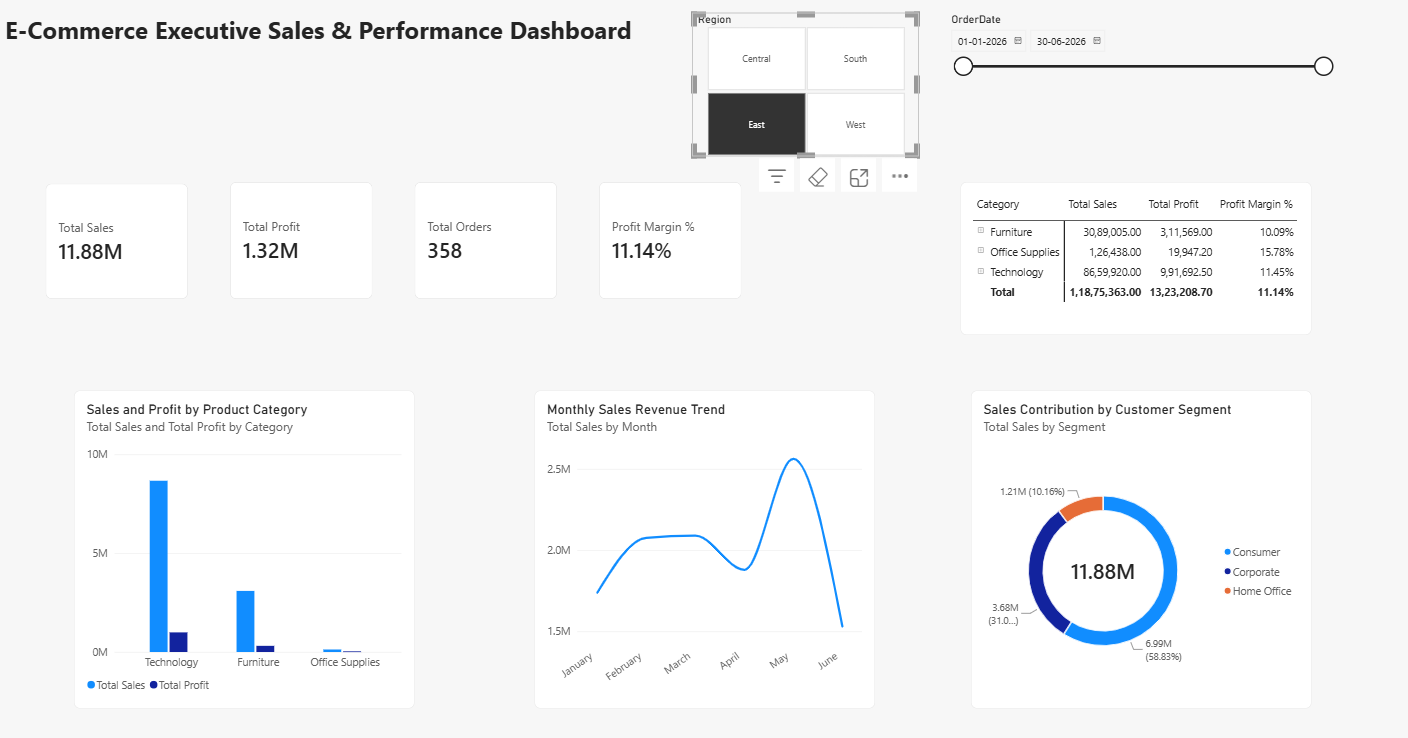

The dashboard page shown, as its layout file describes it:
{"tool":"powerbi","page":{"name":"Page 1","canvas":[1920,1080],"ordinal":0},"visuals":[{"type":"textbox","box":[12,22,862,74],"z":0},{"type":"slicer","fields":{"Values":["ecommerce_cleaned_data.Region"]},"box":[928,22,302,192],"z":1000},{"type":"slicer","fields":{"Values":["ecommerce_cleaned_data.OrderDate"]},"box":[1266,22,520,146],"z":2000},{"type":"clusteredColumnChart","title":"Sales and Profit by Product Category","fields":{"Category":["ecommerce_cleaned_data.Category"],"Y":["_Measures.Total Sales","_Measures.Total Profit"]},"box":[104,526,454,424],"z":2005},{"type":"donutChart","title":"Sales Contribution by Customer Segment","fields":{"Category":["ecommerce_cleaned_data.Segment"],"Y":["_Measures.Total Sales"]},"box":[1300,526,454,424],"z":2006},{"type":"lineChart","title":"Monthly Sales Revenue Trend","fields":{"Category":["ecommerce_cleaned_data.OrderDate.Variation.Date Hierarchy.Month"],"Y":["_Measures.Total Sales"]},"box":[718,526,454,424],"z":2007},{"type":"pivotTable","fields":{"Rows":["ecommerce_cleaned_data.Category","ecommerce_cleaned_data.Product"],"Values":["_Measures.Total Sales","_Measures.Total Profit","_Measures.Profit Margin %"]},"box":[1286,248,468,204],"z":2008},{"type":"cardVisual","fields":{"Data":["_Measures.Total Sales"]},"box":[66,250,190,154],"z":2009},{"type":"cardVisual","fields":{"Data":["_Measures.Total Profit"]},"box":[312,248,190,156],"z":2010},{"type":"cardVisual","fields":{"Data":["_Measures.Total Orders"]},"box":[558,248,190,156],"z":2011},{"type":"cardVisual","fields":{"Data":["_Measures.Profit Margin %"]},"box":[804,248,190,156],"z":2012}]}

Visuals, with their boxes on the page's 1920x1080 design canvas (x1, y1, x2, y2). These are canvas units, not pixel positions in the 1408x738 screenshot, which may show the page scaled, cropped or inside an application window:
textbox: (12,22,874,96)
slicer - ecommerce_cleaned_data.Region: (928,22,1230,214)
slicer - ecommerce_cleaned_data.OrderDate: (1266,22,1786,168)
"Sales and Profit by Product Category" clusteredColumnChart: (104,526,558,950)
"Sales Contribution by Customer Segment" donutChart: (1300,526,1754,950)
"Monthly Sales Revenue Trend" lineChart: (718,526,1172,950)
pivotTable - ecommerce_cleaned_data.Category x ecommerce_cleaned_data.Product: (1286,248,1754,452)
cardVisual - _Measures.Total Sales: (66,250,256,404)
cardVisual - _Measures.Total Profit: (312,248,502,404)
cardVisual - _Measures.Total Orders: (558,248,748,404)
cardVisual - _Measures.Profit Margin %: (804,248,994,404)
